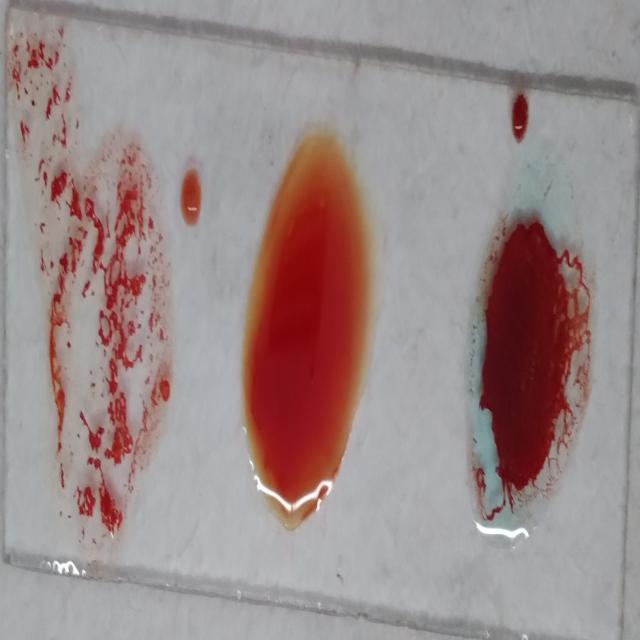A: (468, 156, 595, 549)
D: (54, 119, 169, 550)
